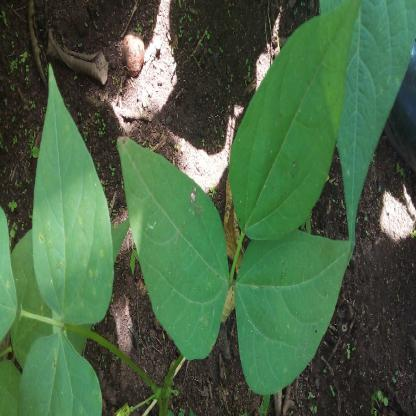Beans_Angular_LeafSpot: (110, 136, 228, 364), (33, 71, 109, 330)
